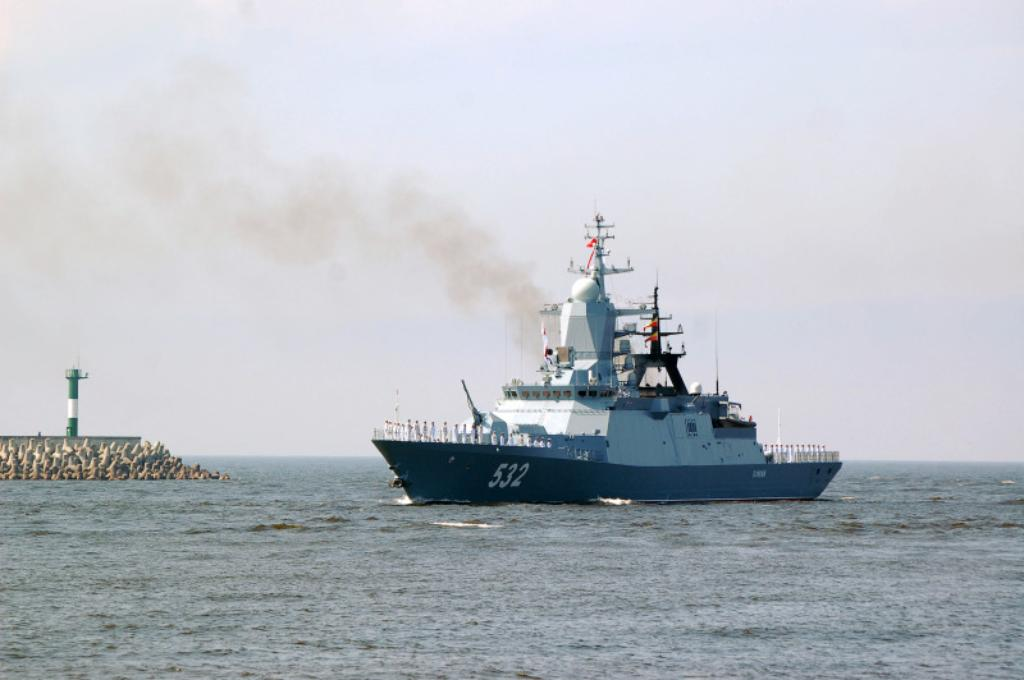Warship: (368, 210, 846, 506)
